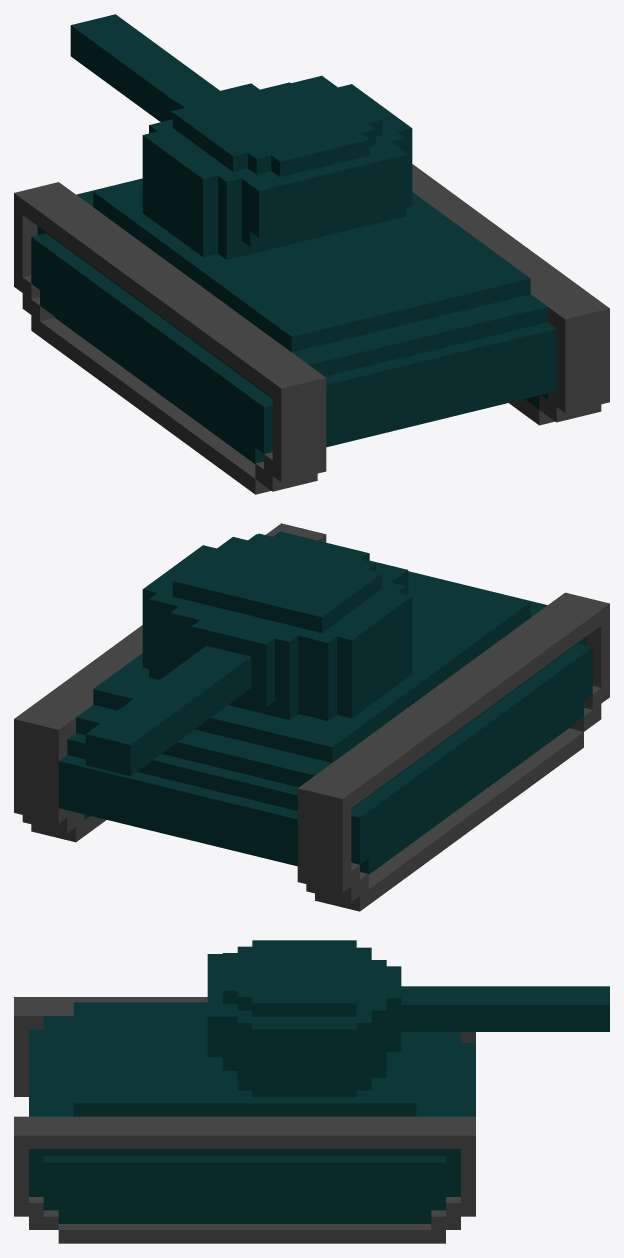
File: FRENCH-TANK.fbx
The picture shows the model from 3 angles, top to bottom: view 1: azimuth 30°, elevation 25°; view 2: azimuth 150°, elevation 25°; view 3: azimuth 270°, elevation 25°; orthographic projection. The views are drawn at different scales.
Parts seen in each view (by area): view 1: node_e60c658e_3b00_4887_adb7_d9585d12f830_mesh0; view 2: node_e60c658e_3b00_4887_adb7_d9585d12f830_mesh0; view 3: node_e60c658e_3b00_4887_adb7_d9585d12f830_mesh0.
Boxes of the visible parts, bbox=[...] form: node_e60c658e_3b00_4887_adb7_d9585d12f830_mesh0: bbox=[14, 14, 609, 494]; node_e60c658e_3b00_4887_adb7_d9585d12f830_mesh0: bbox=[14, 523, 609, 911]; node_e60c658e_3b00_4887_adb7_d9585d12f830_mesh0: bbox=[14, 940, 609, 1243].
Size of the model in its own units: 2200 by 1500 by 4000.
Materials: 1 (1 with a texture image).
